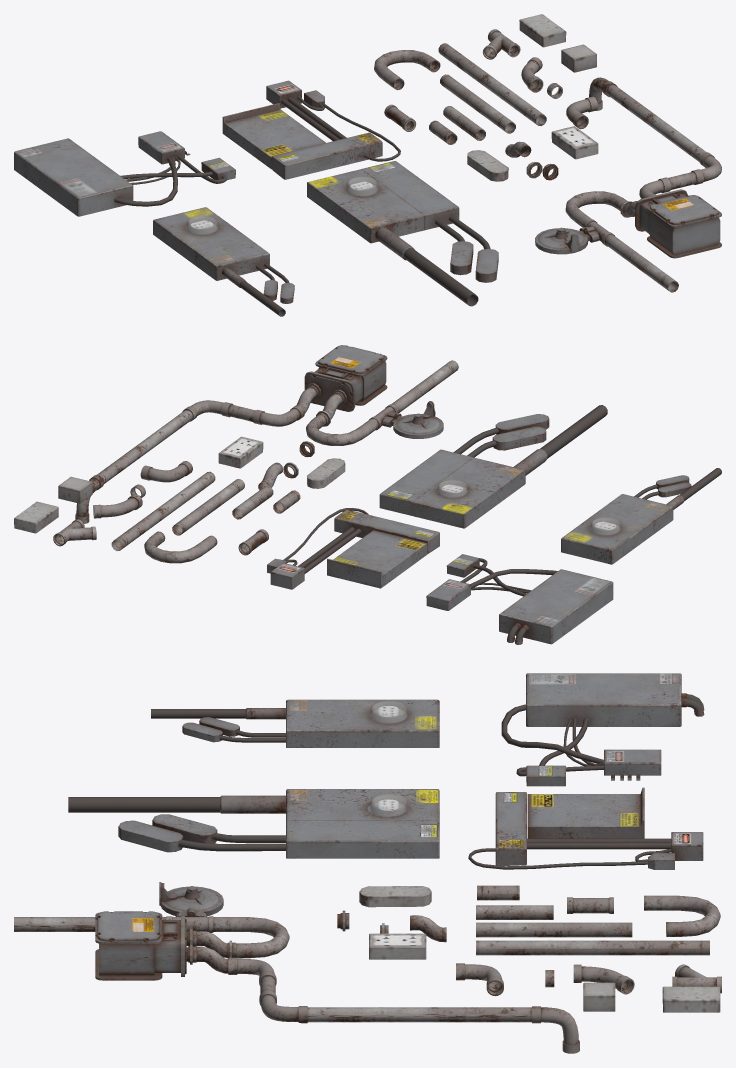
File: medidor.glb
3 renders of one model, top to bottom at view 1: azimuth 30°, elevation 25°; view 2: azimuth 150°, elevation 25°; view 3: azimuth 270°, elevation 25°, orthographic. The views are drawn at different scales.
Visible parts, largest first — view 1: pCube9 (×2), polySurface2, polySurface4, polySurface5, polySurface13, pCylinder16 (×2), pCylinder72, pCylinder104, pCube27, polySurface15, pCylinder76, pCylinder71 (+19 smaller); view 2: pCube9 (×2), polySurface2, polySurface4, pCylinder16 (×2), polySurface5, pCylinder72, pCube27, pCylinder104, polySurface15, polySurface13, pCylinder76, pCylinder98 (+18 smaller); view 3: pCube9 (×2), polySurface2, polySurface4, pCylinder16 (×2), pCylinder72, pCylinder104, polySurface13, pCylinder71, polySurface5, pCylinder76, pCylinder98, polySurface15 (+28 smaller).
Part boxes in pixels (x1,y1,x2,y2): pCube9 (×2): (153, 161, 459, 280); polySurface2: (14, 138, 133, 216); polySurface4: (222, 103, 325, 169); polySurface5: (272, 132, 382, 179); polySurface13: (635, 189, 720, 255); pCylinder16 (×2): (222, 227, 478, 316); pCylinder72: (438, 43, 546, 126); pCylinder104: (606, 84, 706, 161); pCube27: (535, 226, 599, 254); polySurface15: (650, 195, 718, 224); pCylinder76: (374, 50, 440, 90); pCylinder71: (440, 74, 515, 133); pCube9 (×2): (379, 449, 673, 564); polySurface2: (499, 569, 613, 644); polySurface4: (327, 530, 427, 588); pCylinder16 (×2): (514, 405, 721, 509); polySurface5: (334, 509, 439, 553); pCylinder72: (111, 471, 215, 550); pCube27: (382, 401, 443, 438); pCylinder104: (97, 410, 192, 483); polySurface15: (318, 345, 384, 373); polySurface13: (304, 361, 386, 411); pCylinder76: (144, 531, 217, 563); pCylinder98: (306, 414, 378, 445); pCube9 (×2): (286, 699, 439, 858); polySurface2: (526, 673, 681, 726); polySurface4: (527, 787, 644, 838); pCylinder16 (×2): (68, 708, 286, 813); pCylinder72: (476, 940, 709, 955); pCylinder104: (307, 1007, 531, 1022); polySurface13: (99, 915, 184, 976); pCylinder71: (476, 922, 632, 937); polySurface5: (495, 792, 526, 865); pCylinder76: (644, 895, 720, 936); pCylinder98: (213, 917, 289, 958); polySurface15: (97, 911, 159, 941).
Bounding box in the file's own units: 38.74 × 3.92 × 36.39.
Materials: 6 (6 with a texture image).
